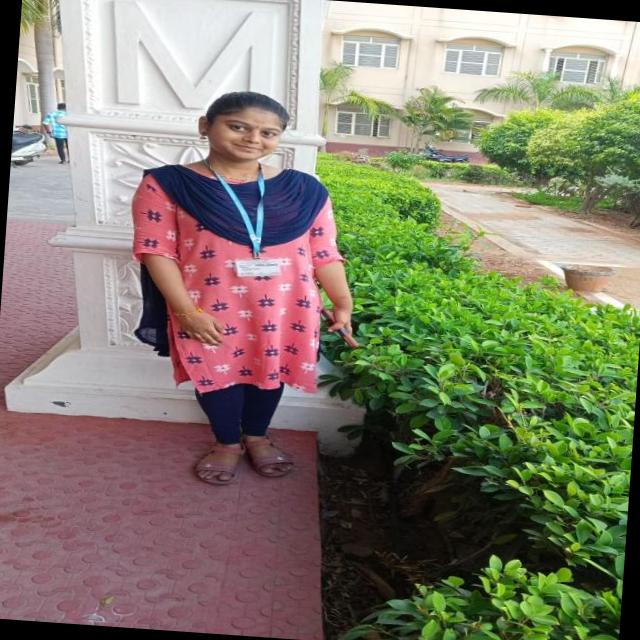id_card: (192, 156, 292, 280)
